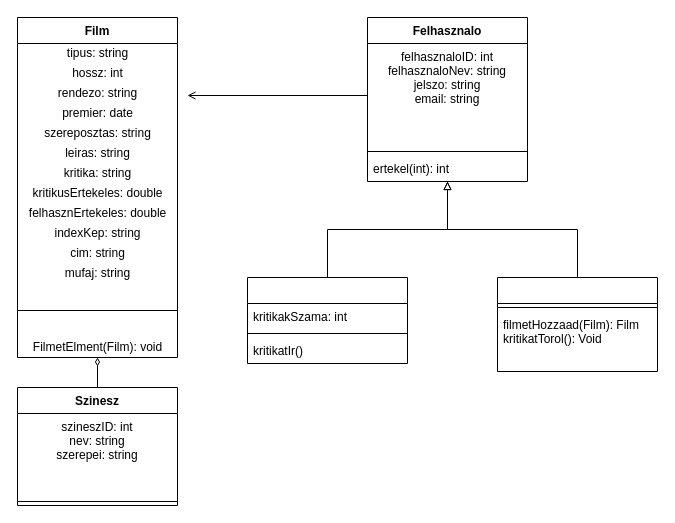
This 675x523 diagram has some shape labels left out. Each missing label, with the box of its shape:
Admin: (496, 276, 658, 372)
Kritikus: (246, 276, 408, 364)
